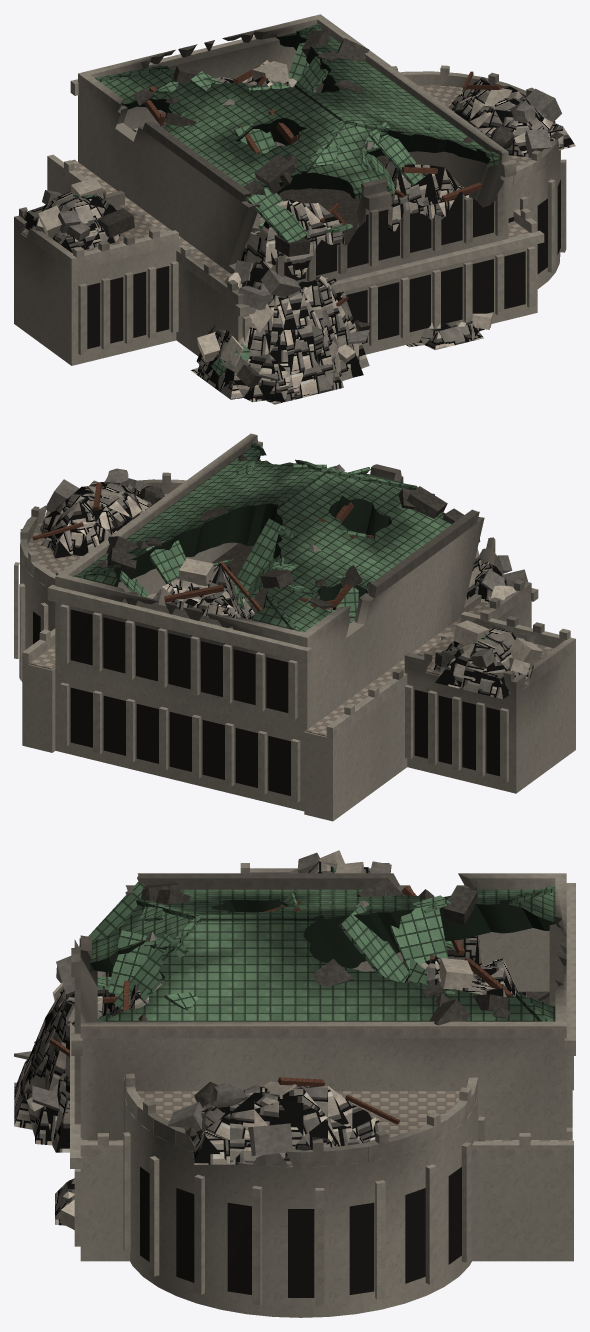
The model's file is CreBuild04a.glb.
3 renders of one model, top to bottom at view 1: azimuth 30°, elevation 25°; view 2: azimuth 150°, elevation 25°; view 3: azimuth 270°, elevation 25°, orthographic. The views are drawn at different scales.
Parts seen in each view (by area): view 1: marble; view 2: marble; view 3: marble.
Part boxes in pixels (x1,y1,x2,y2): marble: [14, 14, 575, 404]; marble: [14, 433, 575, 821]; marble: [14, 850, 575, 1317].
Size of the model in its own units: 19.71 by 7.5 by 14.92.
Materials: 11 (10 with a texture image).
